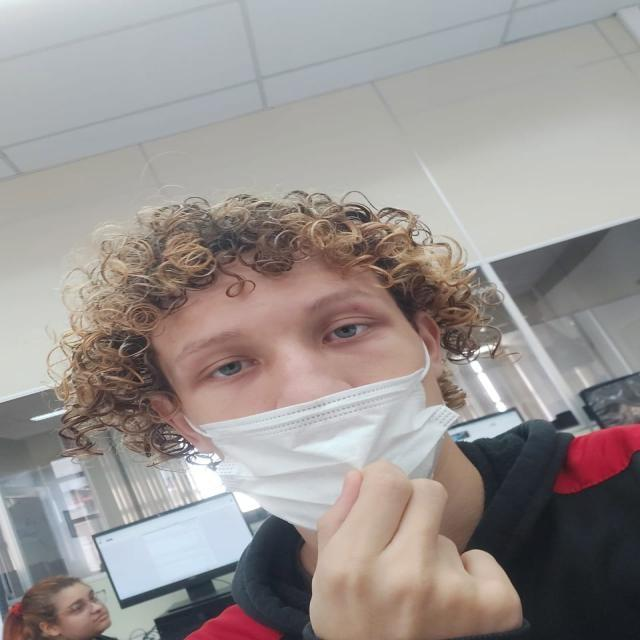hairnet: (185, 265, 420, 497)
